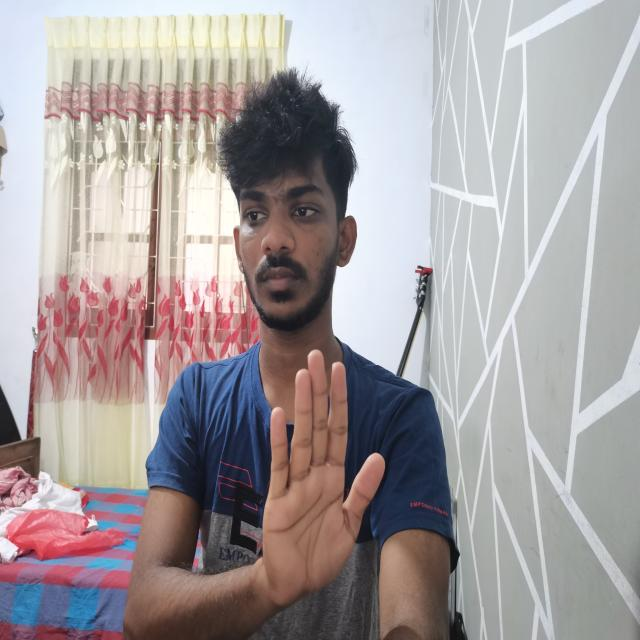Hello: (258, 344, 386, 606)
